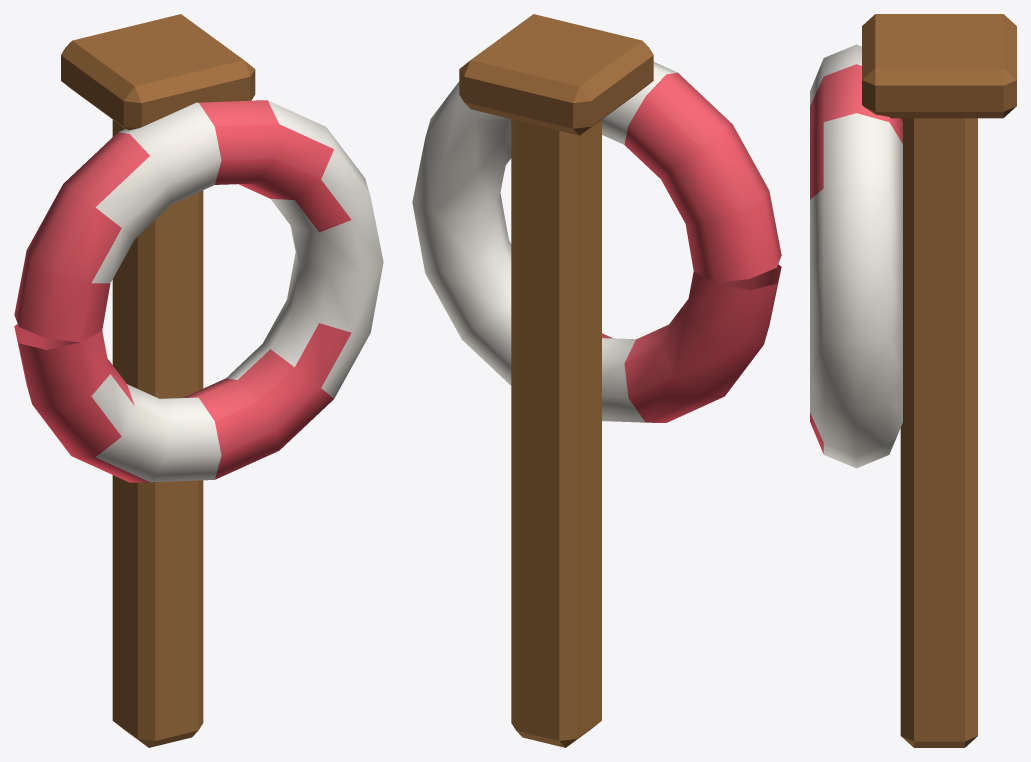
Rendered from LifebuoyStand.glb.
3 renders of one model, left to right at view 1: azimuth 30°, elevation 25°; view 2: azimuth 150°, elevation 25°; view 3: azimuth 270°, elevation 25°, orthographic.
Parts seen in each view (by area): view 1: LifebuoyStand; view 2: LifebuoyStand; view 3: LifebuoyStand.
Part boxes in pixels (x1,y1,x2,y2): LifebuoyStand: [14, 14, 383, 747]; LifebuoyStand: [412, 14, 781, 747]; LifebuoyStand: [810, 14, 1016, 747].
Bounding box in the file's own units: 3.83 × 6.95 × 1.87.
Materials: 1 (1 with a texture image).
